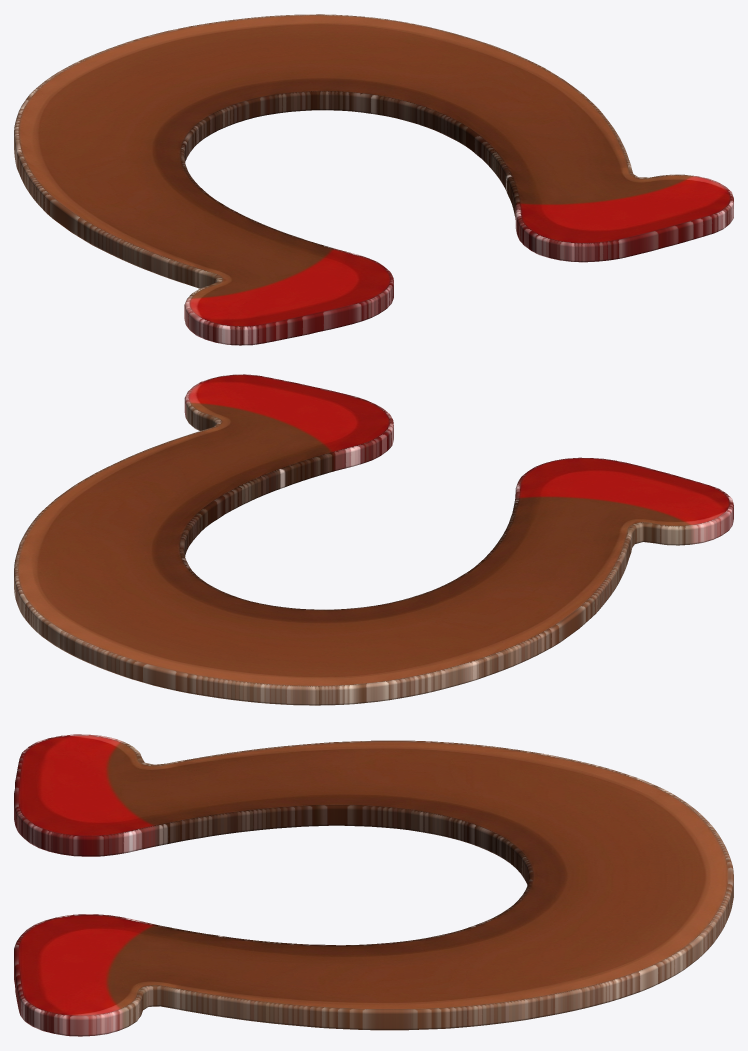
The model's file is Boomerang_5.fbx.
3 renders of one model, top to bottom at view 1: azimuth 30°, elevation 25°; view 2: azimuth 150°, elevation 25°; view 3: azimuth 270°, elevation 25°, orthographic. The views are drawn at different scales.
Visible parts, largest first — view 1: Boomerang_5; view 2: Boomerang_5; view 3: Boomerang_5.
Boxes of the visible parts, box(x1,y1,x2,y2) form: Boomerang_5: box(14, 14, 733, 345); Boomerang_5: box(14, 374, 733, 705); Boomerang_5: box(14, 734, 733, 1036).
Size of the model in its own units: 153 by 5 by 163.
Materials: 1 (1 with a texture image).
